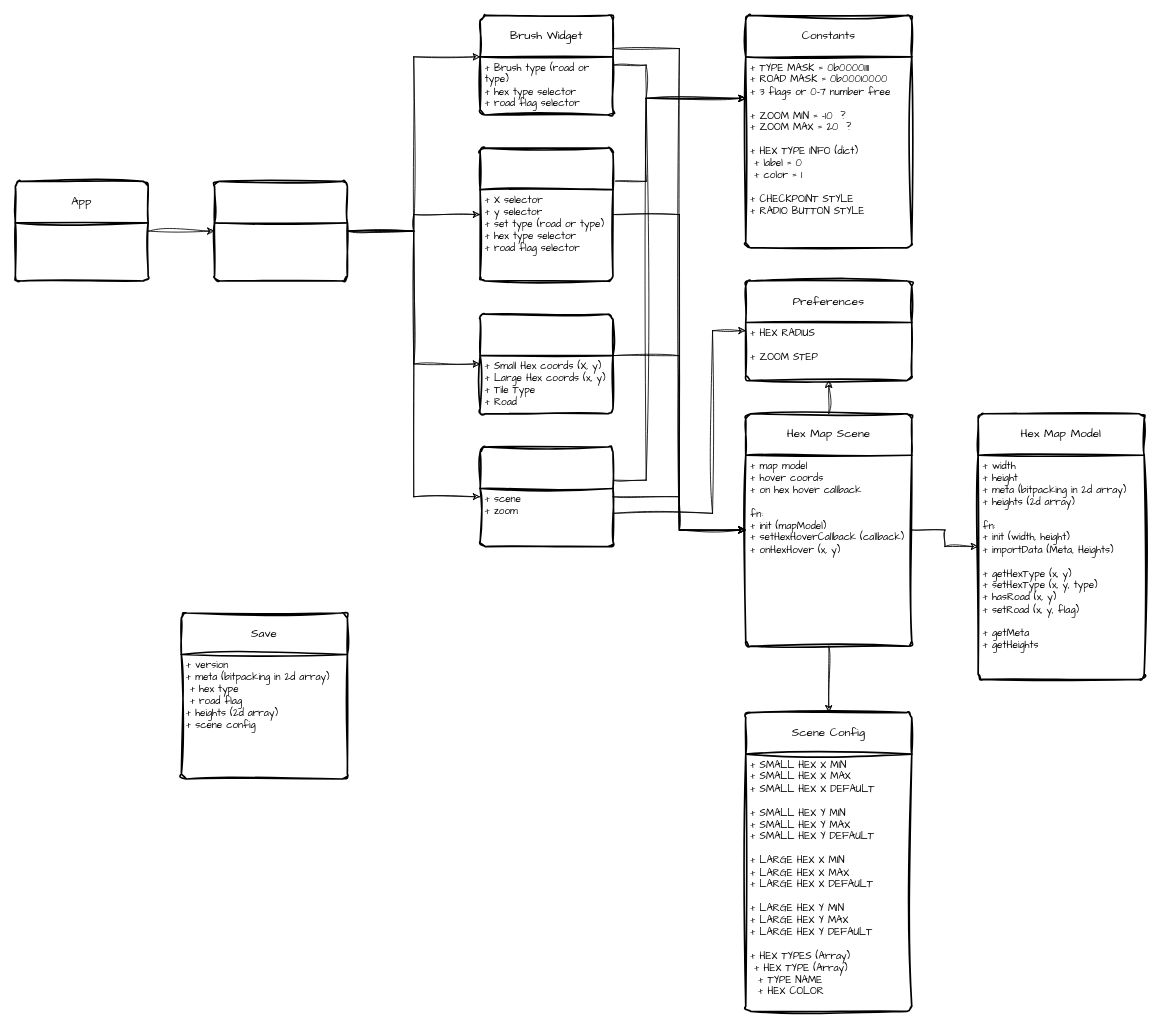
This 1159x1026 diagram has some shape labels left out. The shapes that lost their labels are listed below. From the top down, each one's box as (x1, y1, x2, y2) in pixels, then its label:
(213, 180, 348, 281): Main Window
(479, 147, 613, 281): Set Widget
(479, 313, 613, 414): Tile Info Widget
(479, 446, 613, 547): Map View Widget
